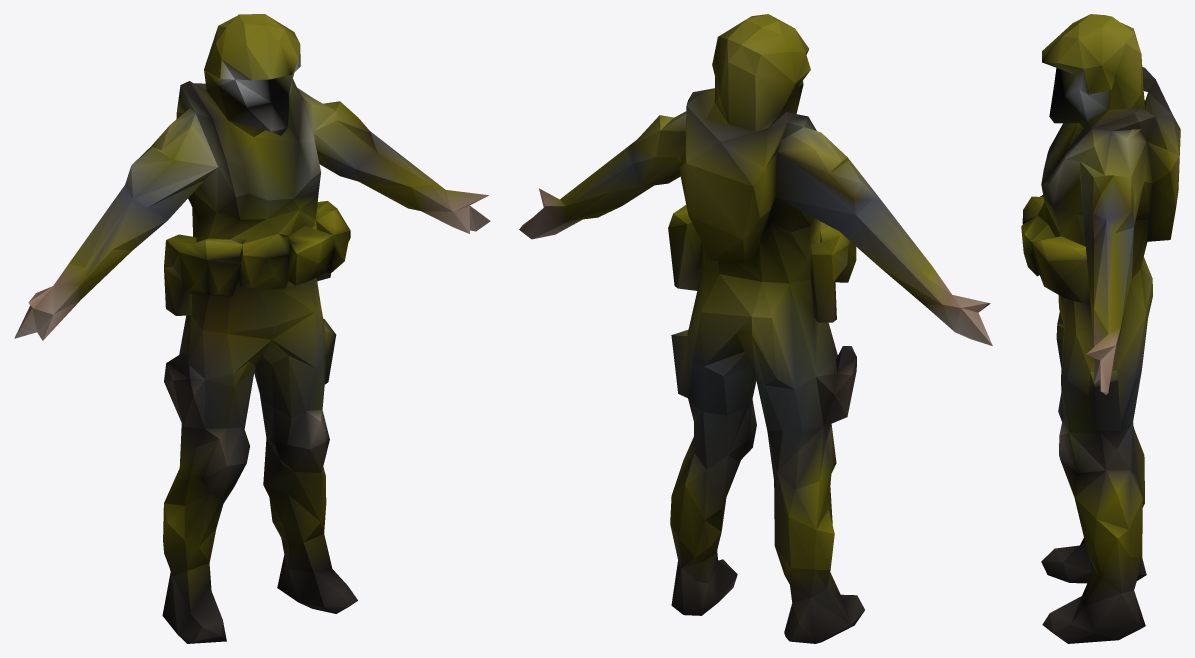
The model's file is 防化兵1000面黄色手指很尖.fbx.
The picture shows the model from 3 angles, left to right: view 1: azimuth 30°, elevation 25°; view 2: azimuth 150°, elevation 25°; view 3: azimuth 270°, elevation 25°; orthographic projection. The views are drawn at different scales.
Visible parts, largest first — view 1: mesh_uv.obj; view 2: mesh_uv.obj; view 3: mesh_uv.obj.
Boxes of the visible parts, bbox=[...] form: mesh_uv.obj: bbox=[14, 14, 490, 643]; mesh_uv.obj: bbox=[519, 14, 992, 643]; mesh_uv.obj: bbox=[1021, 14, 1180, 643].
Bounding box in the file's own units: 94.98 × 114 × 28.28.
1 material, 1 textured.
